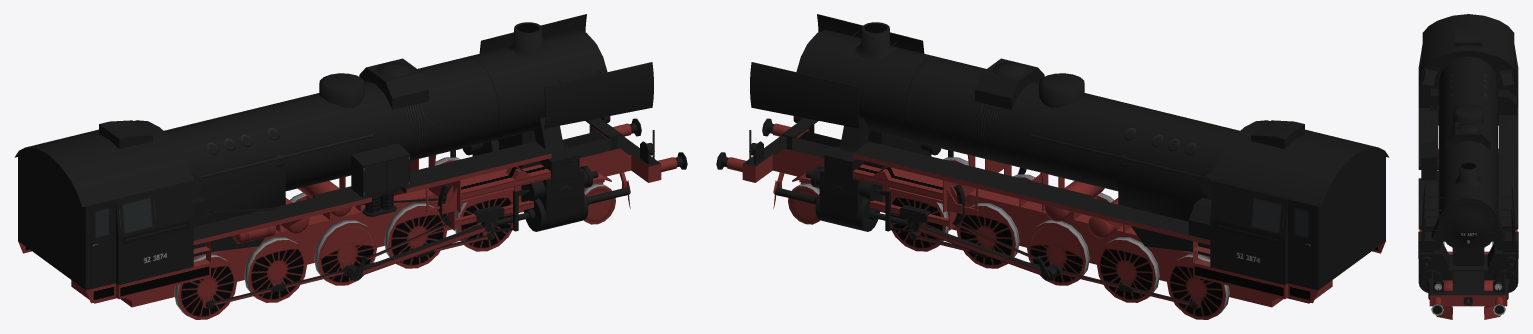
3 views of the same model, side by side, from view 1: azimuth 30°, elevation 25°; view 2: azimuth 150°, elevation 25°; view 3: azimuth 270°, elevation 25° (orthographic). The views are drawn at different scales.
Visible parts, largest first — view 1: BR52; view 2: BR52; view 3: BR52.
Part boxes in pixels (bbox=[...]): BR52: bbox=[14, 14, 687, 319]; BR52: bbox=[716, 14, 1389, 319]; BR52: bbox=[1418, 14, 1518, 319].
Size of the model in its own units: 14.41 by 4.33 by 3.02.
Materials: 1 (1 with a texture image).
